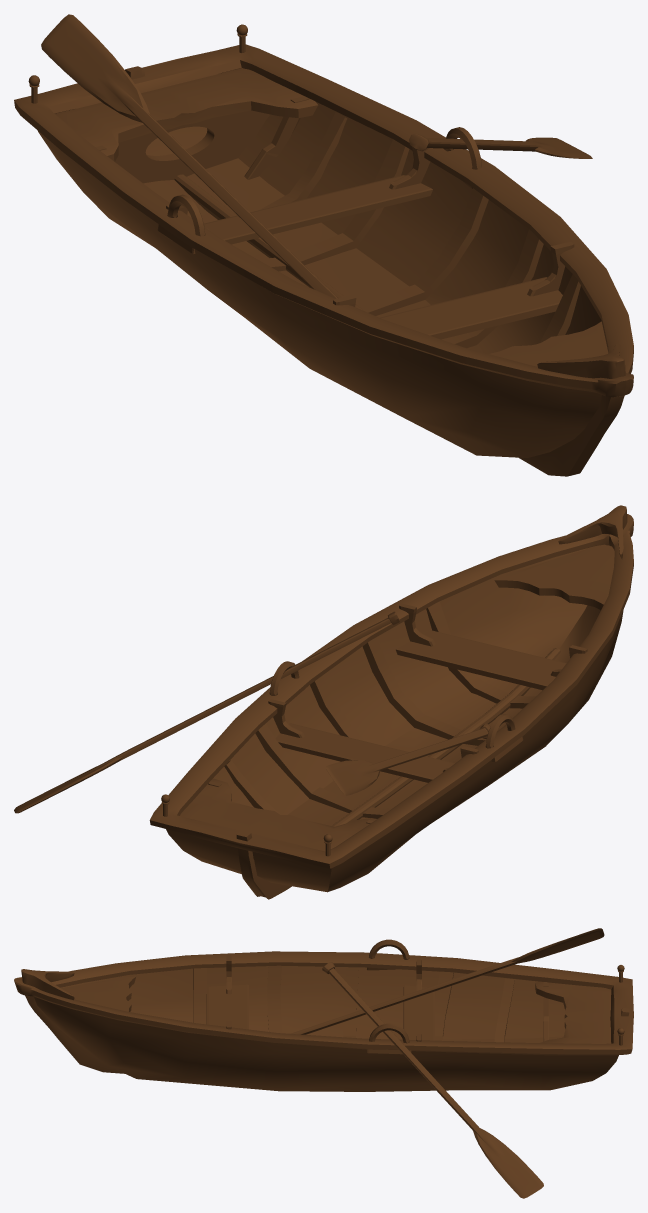
Rendered from Boat.fbx.
The picture shows the model from 3 angles, top to bottom: view 1: azimuth 30°, elevation 25°; view 2: azimuth 150°, elevation 25°; view 3: azimuth 270°, elevation 25°; orthographic projection. The views are drawn at different scales.
Parts seen in each view (by area): view 1: Retopo_Cube.006; view 2: Retopo_Cube.006; view 3: Retopo_Cube.006.
Boxes of the visible parts, x1=… form: Retopo_Cube.006: x1=14, y1=14, x2=633, y2=476; Retopo_Cube.006: x1=14, y1=505, x2=633, y2=899; Retopo_Cube.006: x1=14, y1=928, x2=633, y2=1198.
Size of the model in its own units: 292 by 116 by 479.
